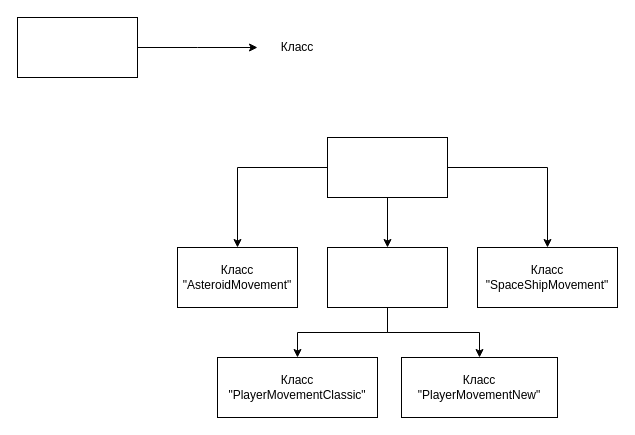
This 635x435 diagram has some shape labels left out. Each missing label, with the centre of its shape:
Класс "ObjectMovement": point 387,167
Класс "PlayerMovement": point 387,277
